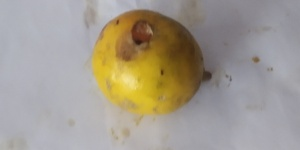BAD: (90, 7, 200, 112)
